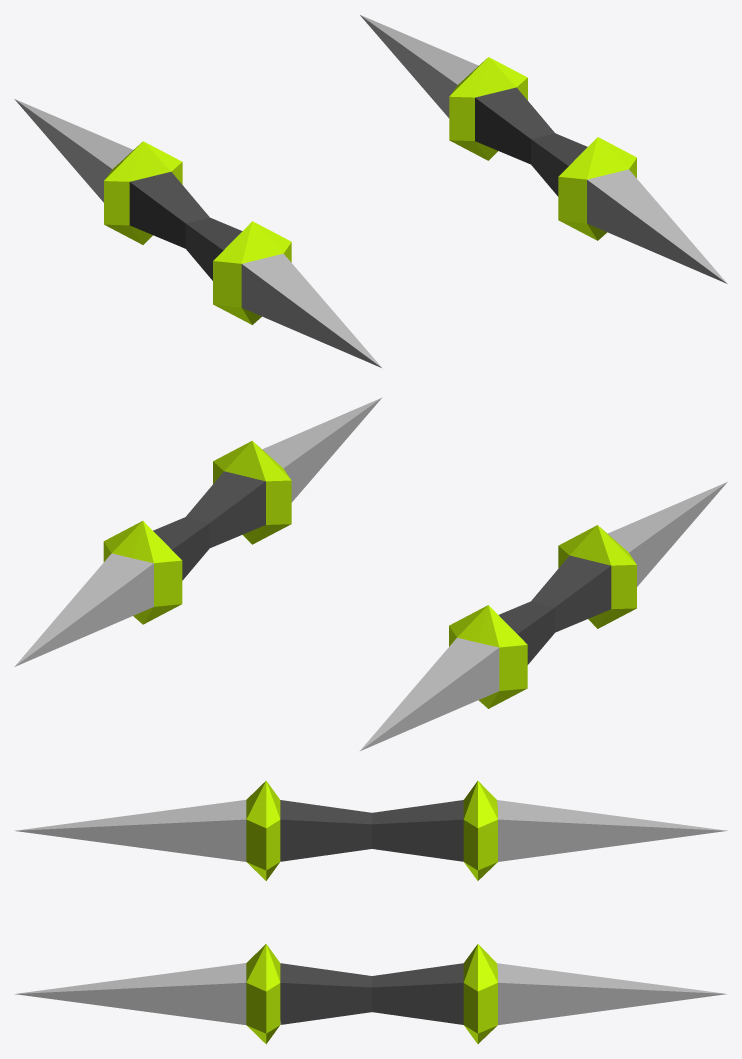
File: enemy_arm.obj
3 renders of one model, top to bottom at view 1: azimuth 30°, elevation 25°; view 2: azimuth 150°, elevation 25°; view 3: azimuth 270°, elevation 25°, orthographic. The views are drawn at different scales.
Parts seen in each view (by area): view 1: 立方体, 立方体.001; view 2: 立方体, 立方体.001; view 3: 立方体, 立方体.001.
Part boxes in pixels (x1,y1,x2,y2): 立方体: (360,15,727,283); 立方体.001: (14,99,381,367); 立方体: (14,397,382,666); 立方体.001: (359,482,727,751); 立方体: (15,944,726,1044); 立方体.001: (14,780,727,880).
Size of the model in its own units: 5.4 by 1.27 by 8.14.
Materials: 2 (2 with a texture image).
